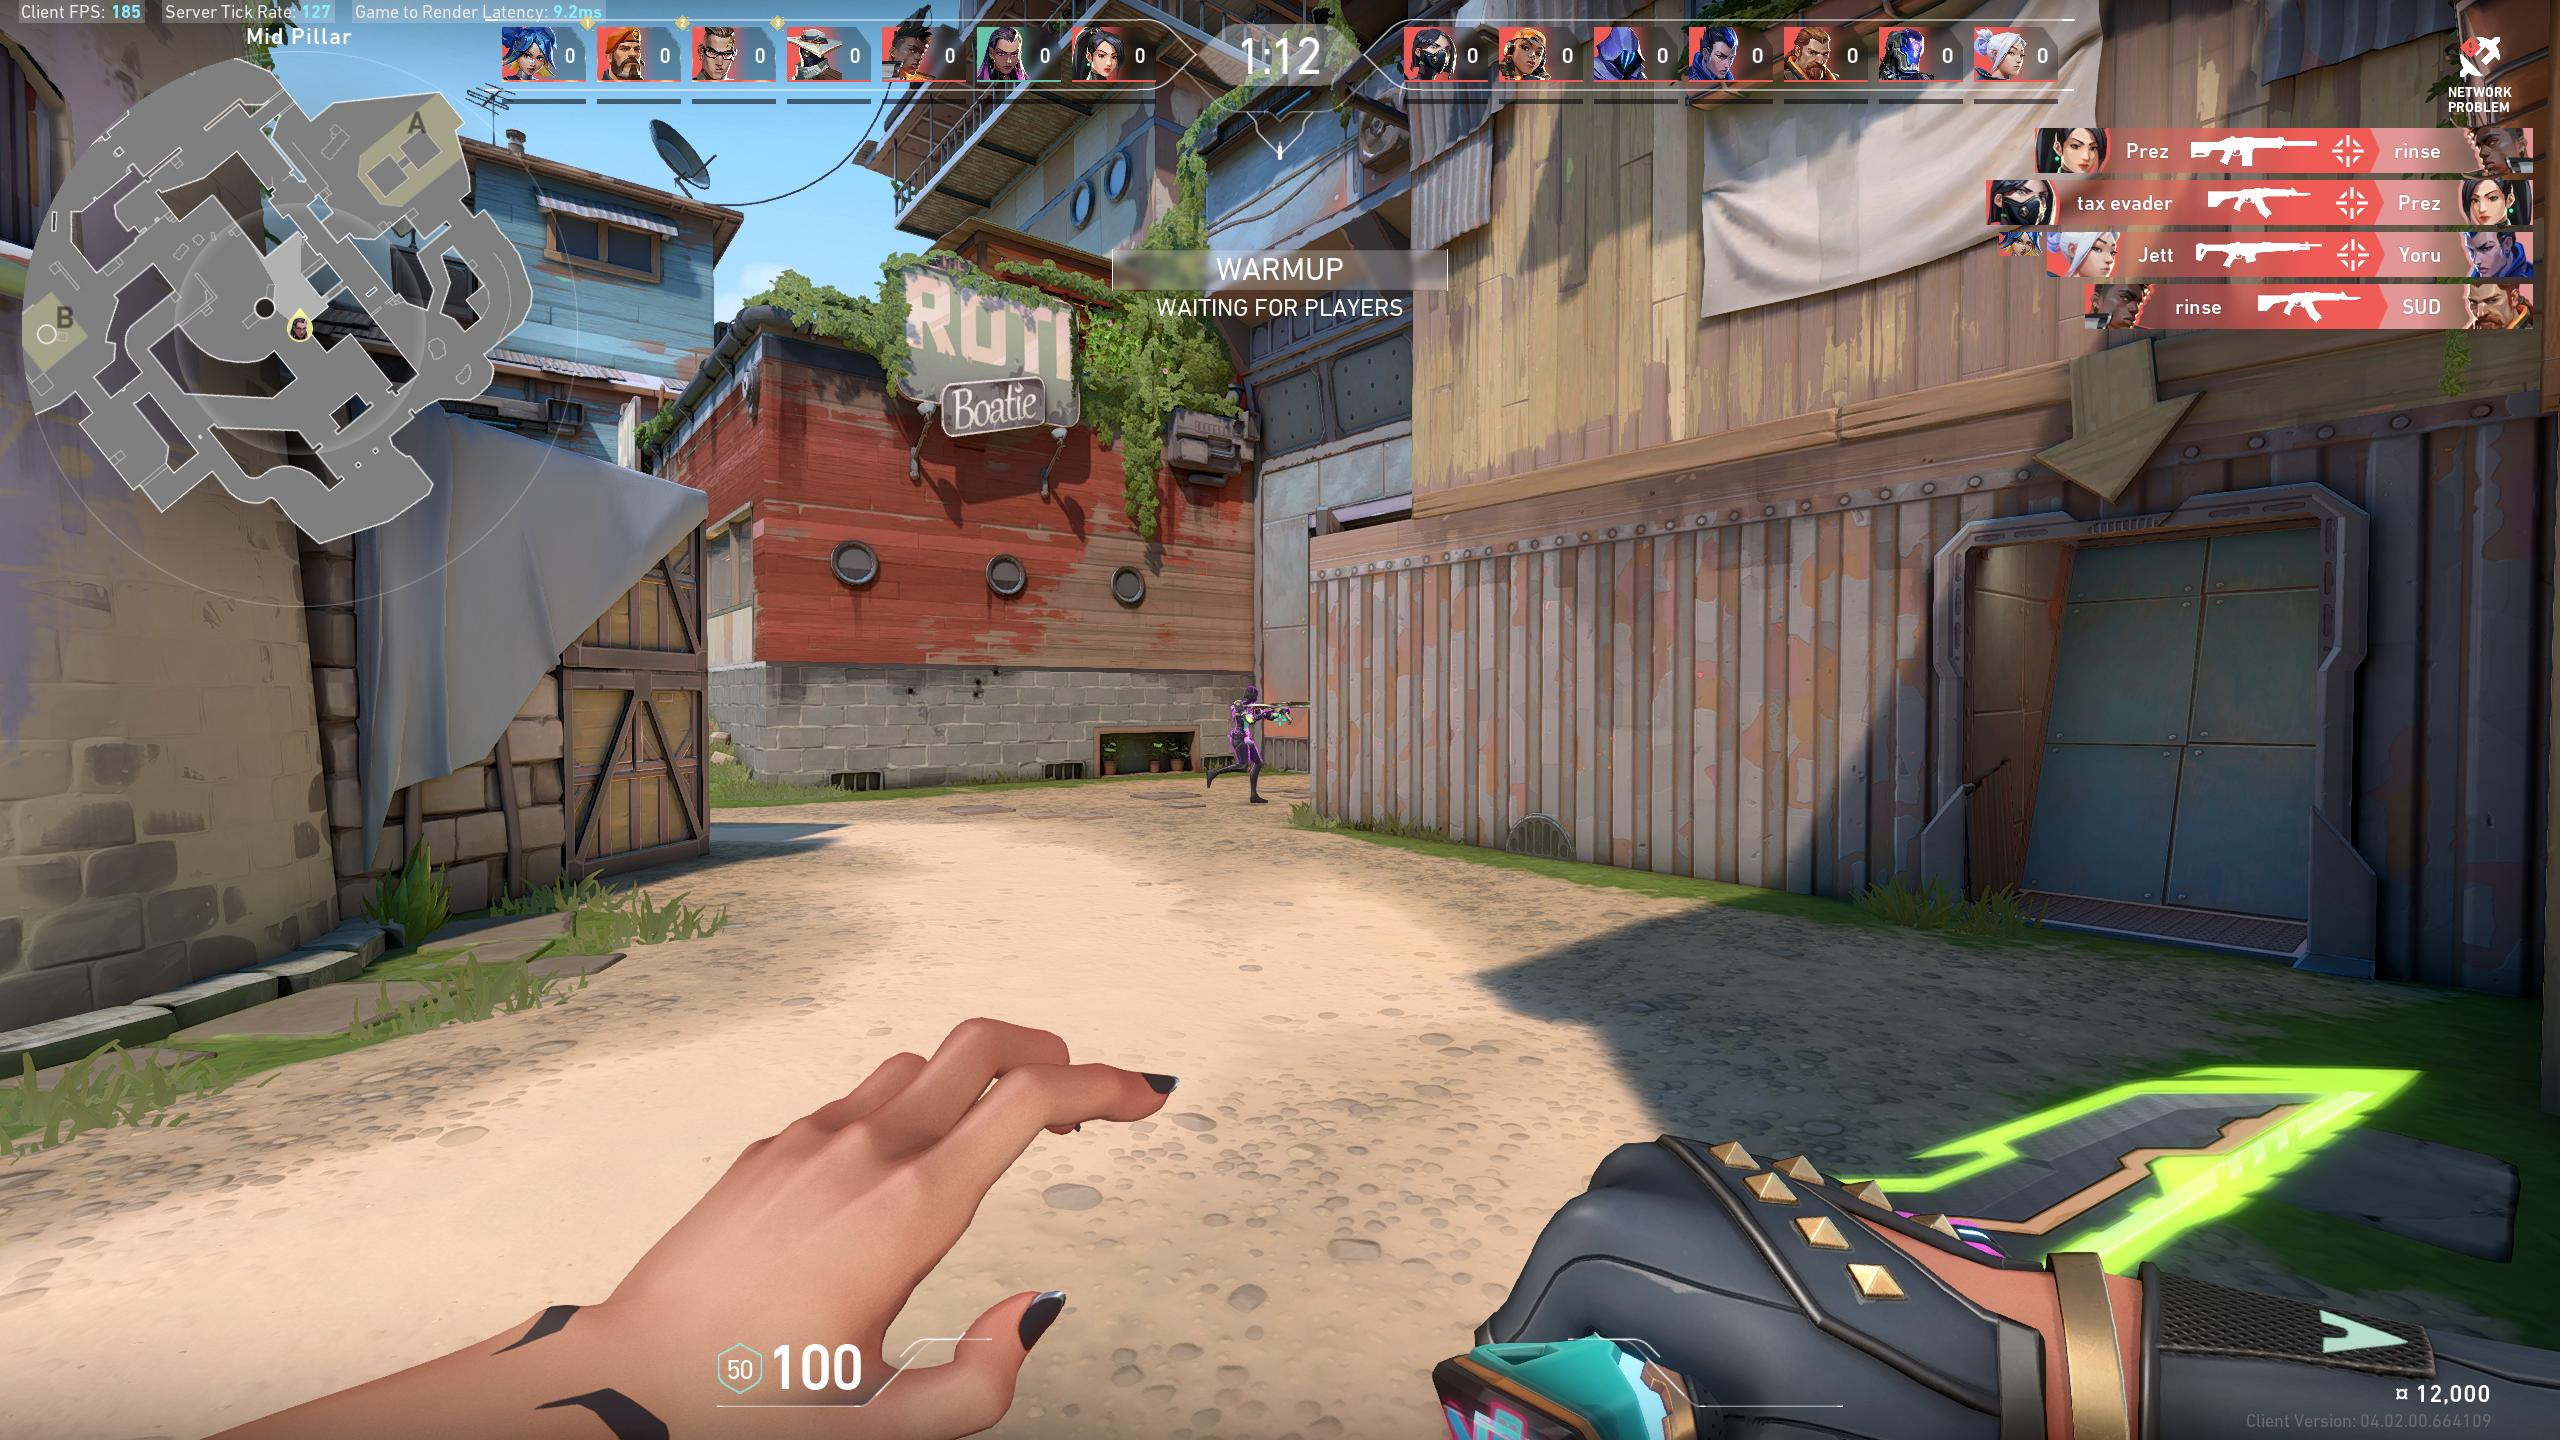enemyBody: (1234, 703, 1250, 733)
enemyHead: (1245, 687, 1257, 702)
